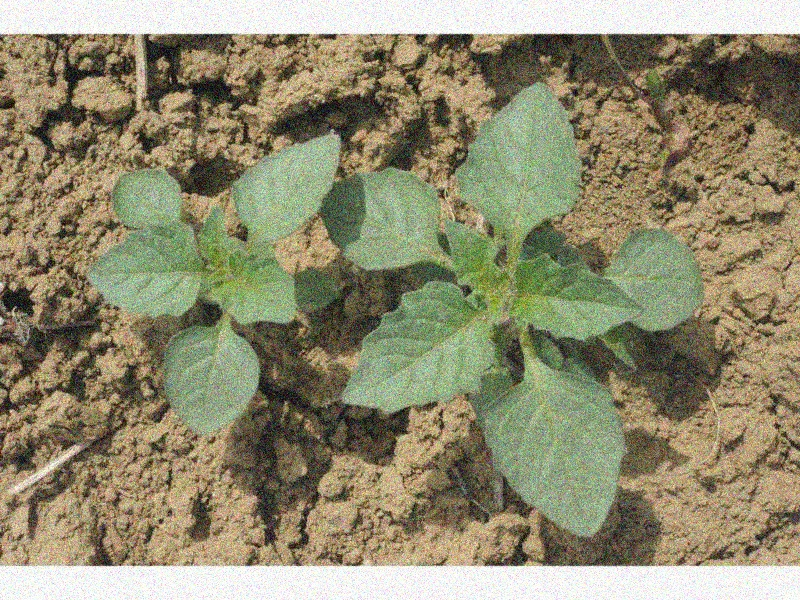nightshade: (320, 80, 705, 537), (84, 131, 342, 435)
